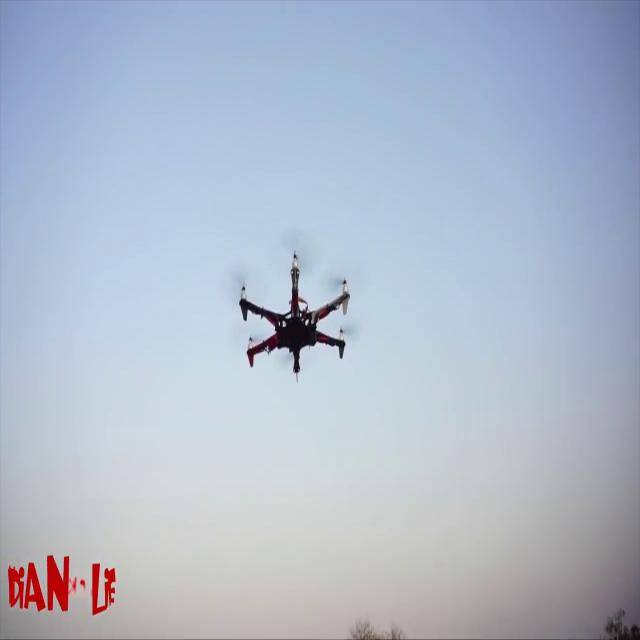drone: (219, 264, 361, 388)
